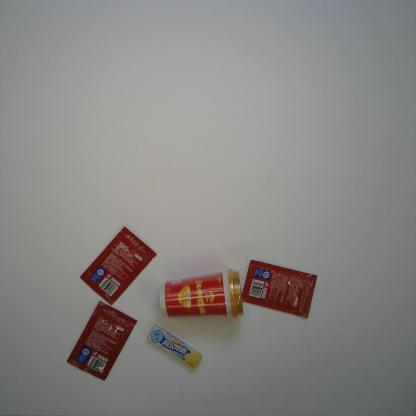Candy: (146, 324, 202, 369)
Instant Drink: (158, 267, 244, 322)
Seasoner: (79, 226, 157, 305), (66, 302, 138, 382), (241, 260, 318, 319)
